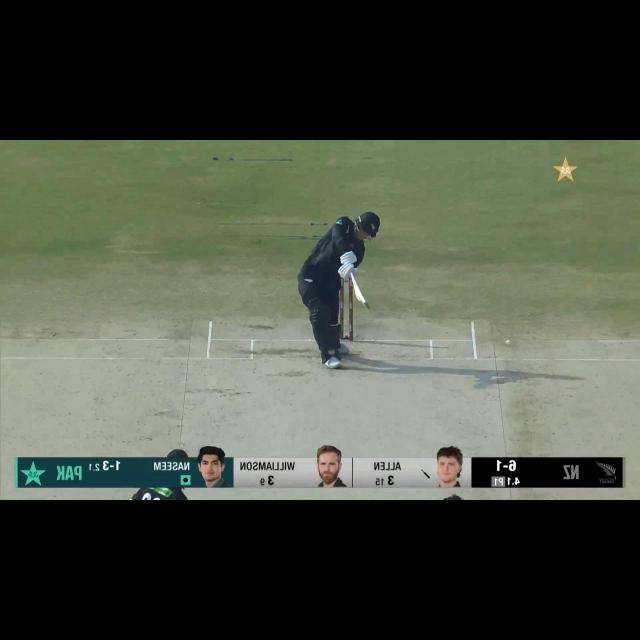bat: (348, 270, 371, 310)
toe: (361, 298, 372, 311)
